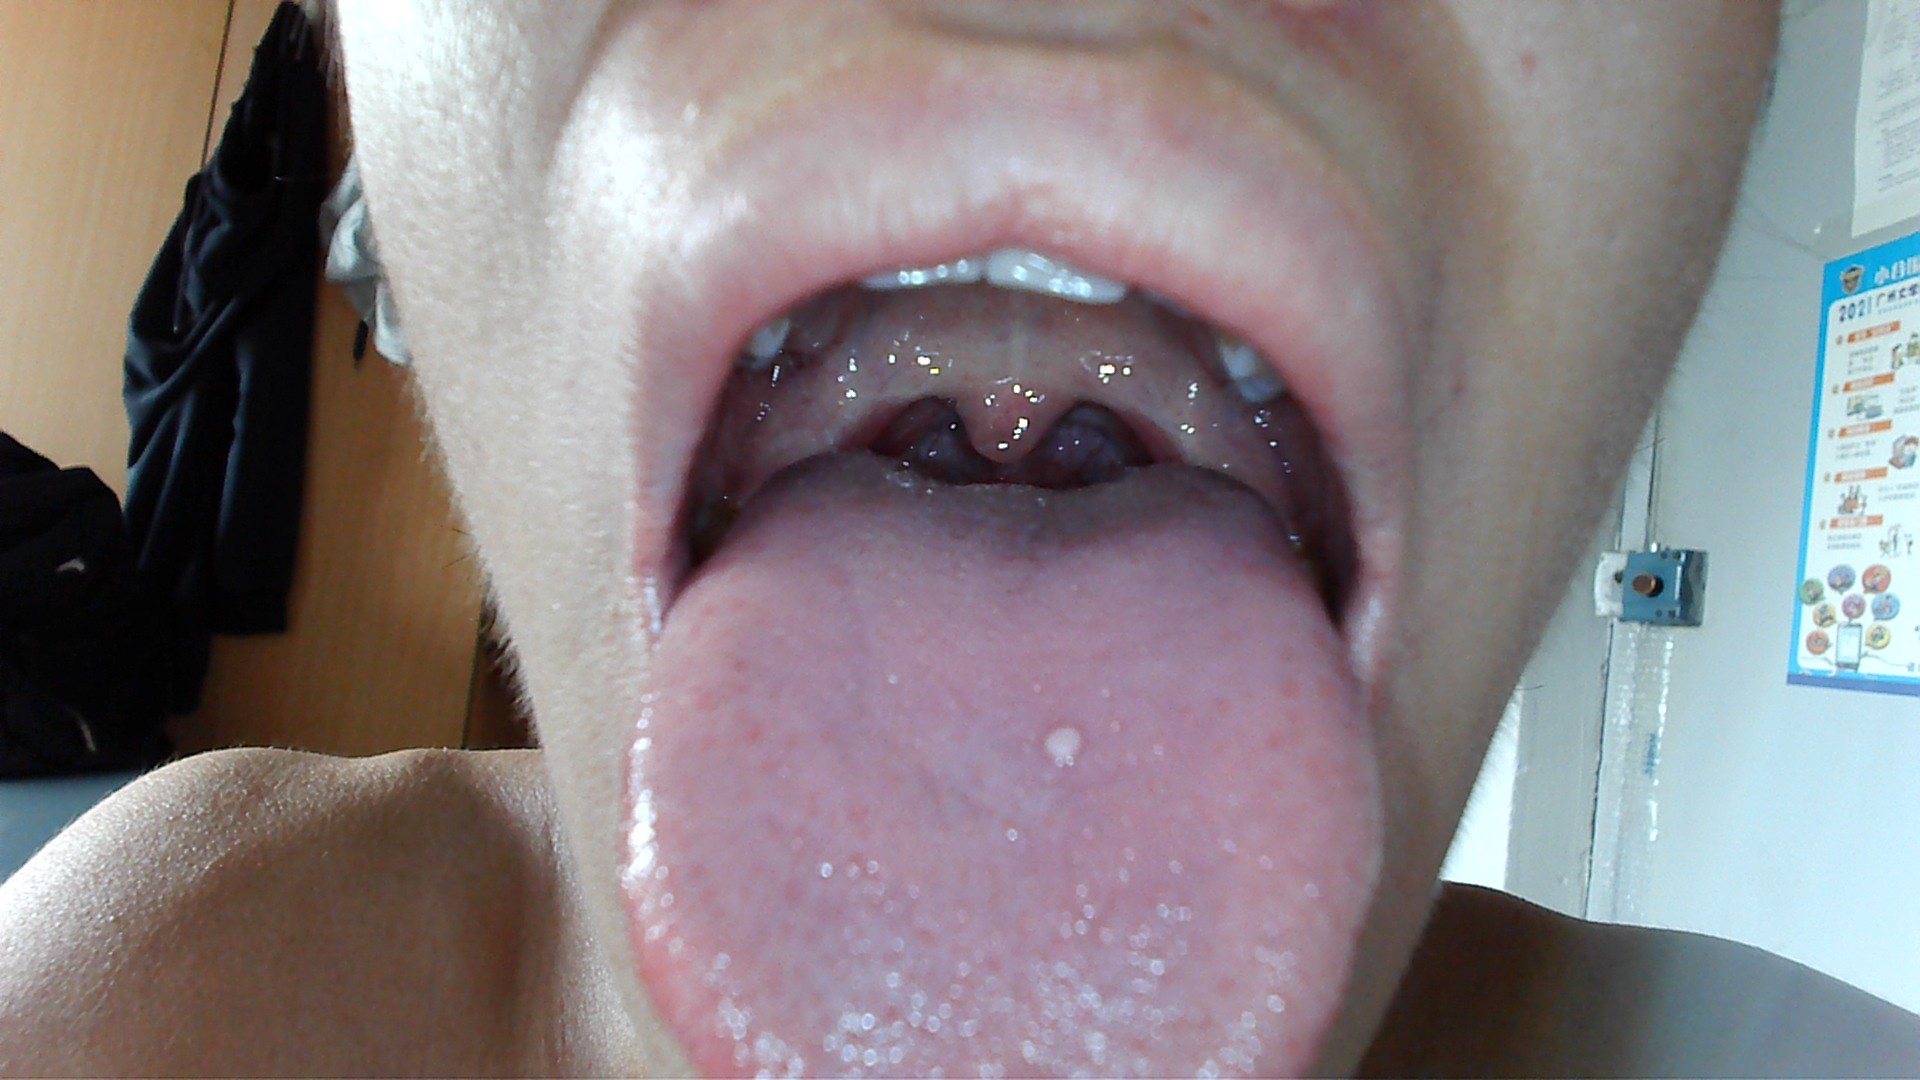throat: (1106, 336, 1185, 464), (829, 336, 898, 456)
